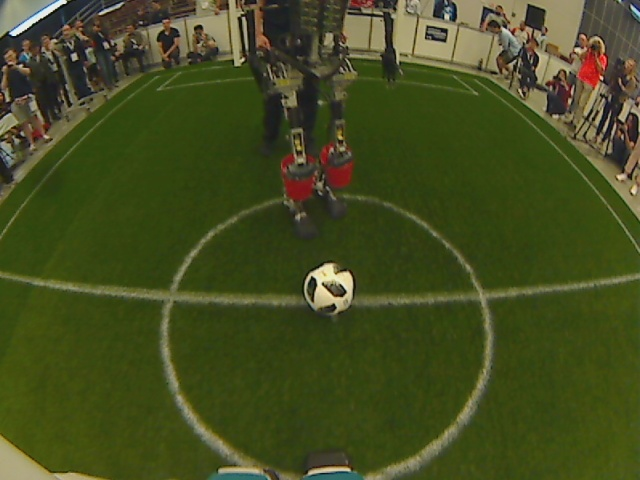ball: (299, 260, 358, 318)
